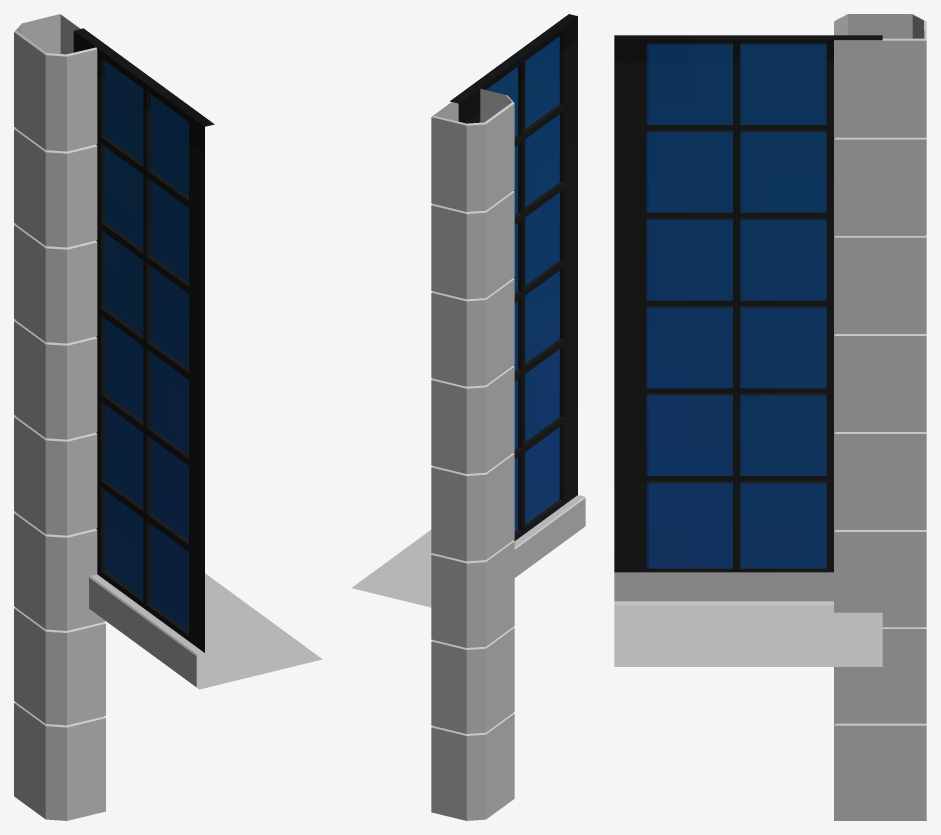
File: CitySkyscraper00.fbx
The picture shows the model from 3 angles, left to right: view 1: azimuth 30°, elevation 25°; view 2: azimuth 150°, elevation 25°; view 3: azimuth 270°, elevation 25°; orthographic projection. The views are drawn at different scales.
Visible parts, largest first — view 1: SM_City_Skyscraper_01_Low_01a.mo; view 2: SM_City_Skyscraper_01_Low_01a.mo; view 3: SM_City_Skyscraper_01_Low_01a.mo.
Part boxes in pixels (x1,y1,x2,y2): SM_City_Skyscraper_01_Low_01a.mo: [14, 14, 322, 820]; SM_City_Skyscraper_01_Low_01a.mo: [352, 14, 585, 820]; SM_City_Skyscraper_01_Low_01a.mo: [614, 14, 926, 820].
Size of the model in its own units: 334 by 1500 by 543.
